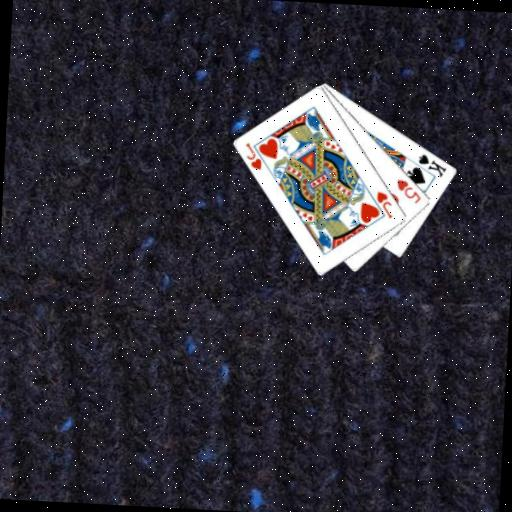5H: (394, 177, 424, 206)
JH: (242, 139, 266, 172), (373, 188, 396, 221)
KS: (415, 150, 449, 179)
